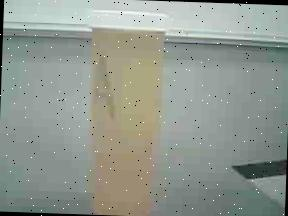Bottle A: (71, 0, 182, 216)
